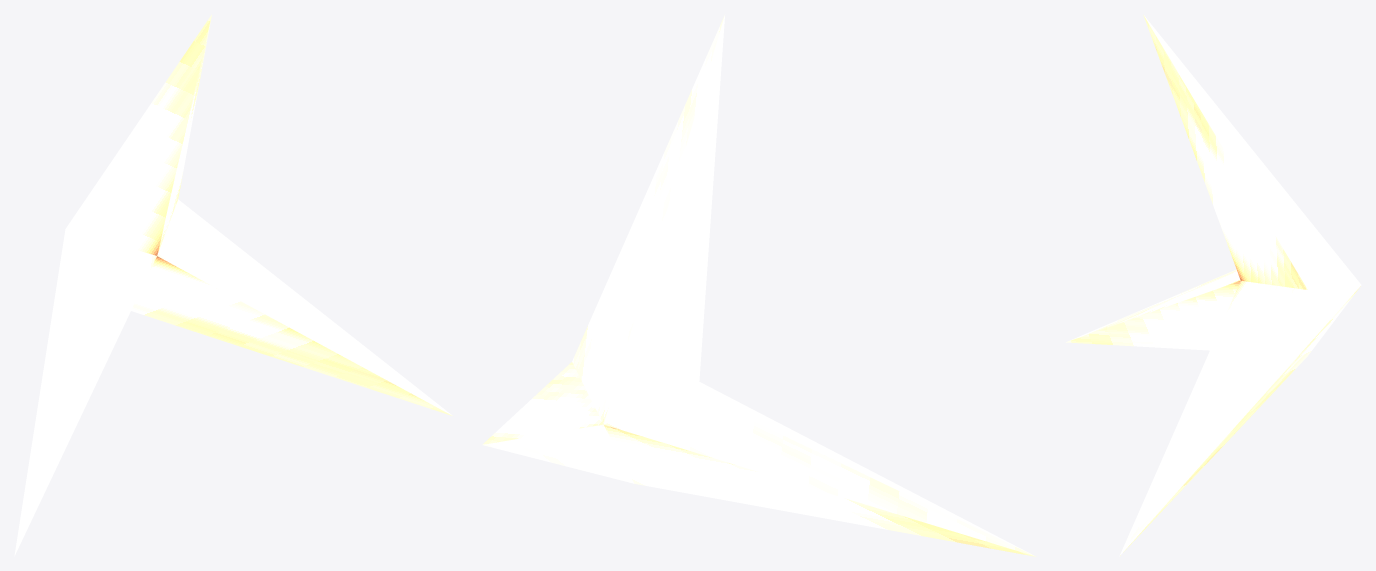
Rendered from muzzleflash1.glb.
The picture shows the model from 3 angles, left to right: view 1: azimuth 30°, elevation 25°; view 2: azimuth 150°, elevation 25°; view 3: azimuth 270°, elevation 25°; orthographic projection. The views are drawn at different scales.
Visible parts, largest first — view 1: MuzzleFlash; view 2: MuzzleFlash; view 3: MuzzleFlash.
Boxes of the visible parts, bbox=[...] form: MuzzleFlash: bbox=[14, 14, 452, 556]; MuzzleFlash: bbox=[482, 15, 1036, 556]; MuzzleFlash: bbox=[1066, 15, 1361, 556].
Bounding box in the file's own units: 1.15 × 1.07 × 0.6532.
